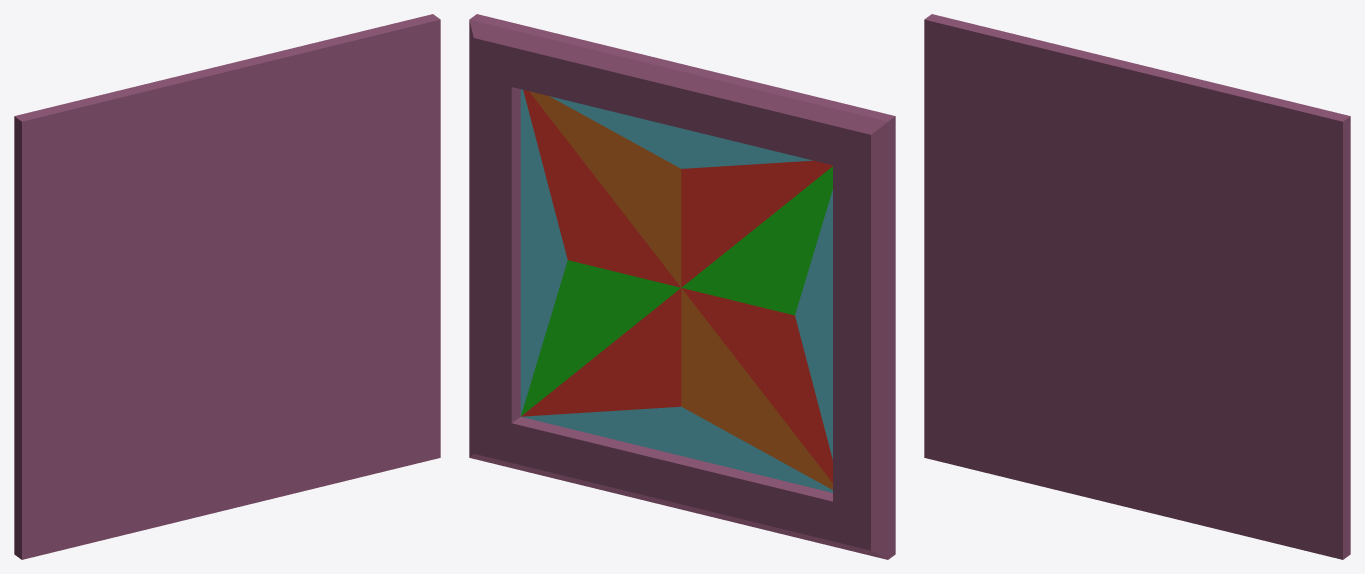
Rendered from Portrait.fbx.
3 renders of one model, left to right at view 1: azimuth 30°, elevation 25°; view 2: azimuth 150°, elevation 25°; view 3: azimuth 330°, elevation 25°, orthographic.
Parts seen in each view (by area): view 1: Portrait; view 2: Portrait; view 3: Portrait.
Part boxes in pixels (x1,y1,x2,y2): Portrait: (14,14,440,559); Portrait: (469,14,895,559); Portrait: (924,14,1350,559).
Bounding box in the file's own units: 0.5082 × 0.0291 × 0.5082.
